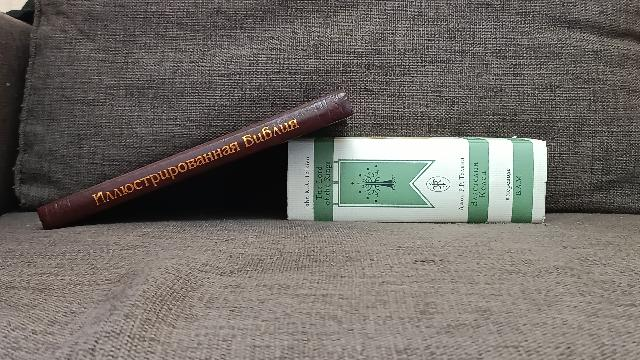book-s-spine: (36, 89, 353, 231), (287, 143, 546, 222)
